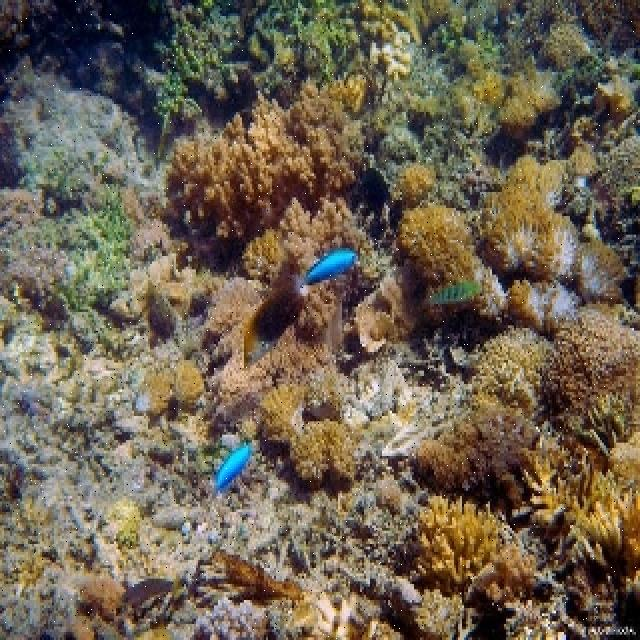fish: (293, 249, 364, 292), (116, 576, 179, 615), (211, 444, 251, 496), (419, 277, 484, 307)
reefs: (159, 68, 369, 235), (244, 198, 386, 329), (478, 306, 638, 416), (414, 493, 541, 609), (524, 451, 638, 569), (261, 383, 355, 483), (395, 169, 475, 278), (215, 550, 305, 599), (144, 358, 203, 411)
